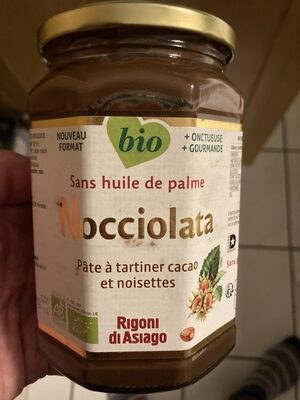Rigoni di Asiago - Nocciolata bio: (15, 20, 285, 380)
